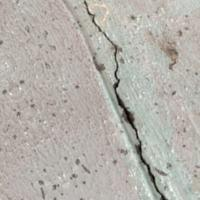crack: (70, 0, 180, 199)
